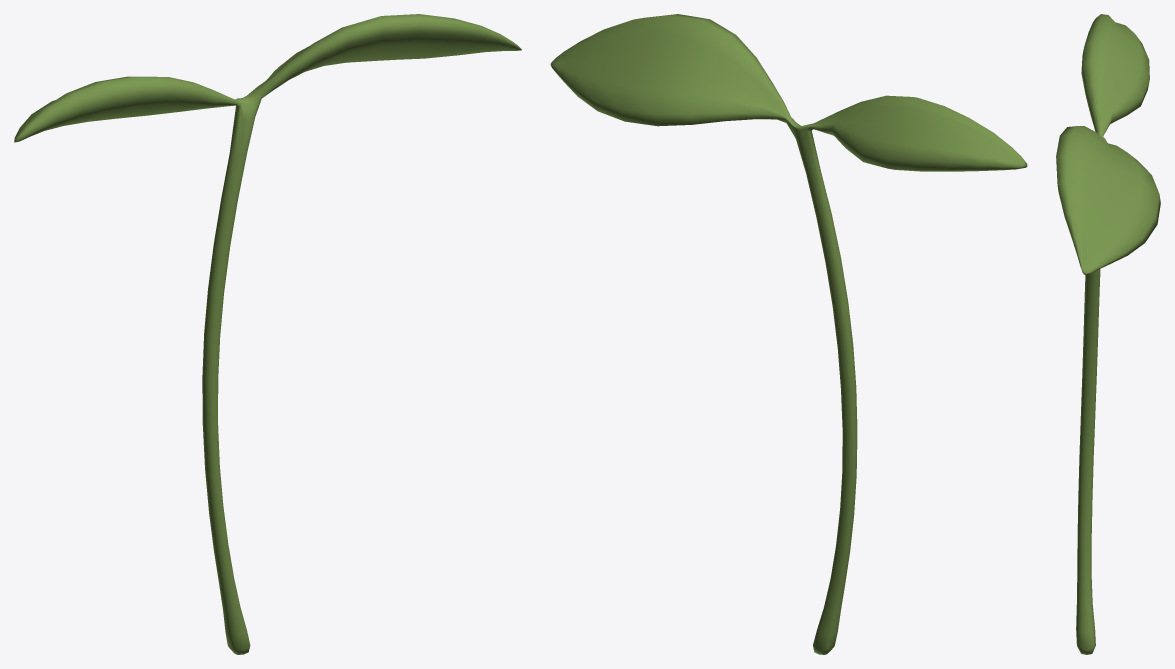
The model's file is sprout.fbx.
3 views of the same model, side by side, from view 1: azimuth 30°, elevation 25°; view 2: azimuth 150°, elevation 25°; view 3: azimuth 270°, elevation 25° (orthographic). The views are drawn at different scales.
Visible parts, largest first — view 1: Cube.001; view 2: Cube.001; view 3: Cube.001.
Boxes of the visible parts, box(x1,y1,x2,y2) form: Cube.001: box(14, 14, 521, 654); Cube.001: box(550, 14, 1027, 654); Cube.001: box(1056, 14, 1160, 654).
Bounding box in the file's own units: 6.86 × 8.03 × 1.32.
